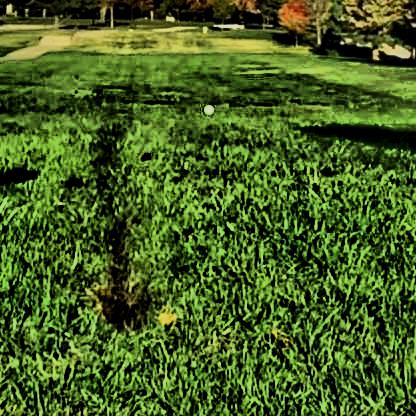golfball: (200, 99, 214, 113)
